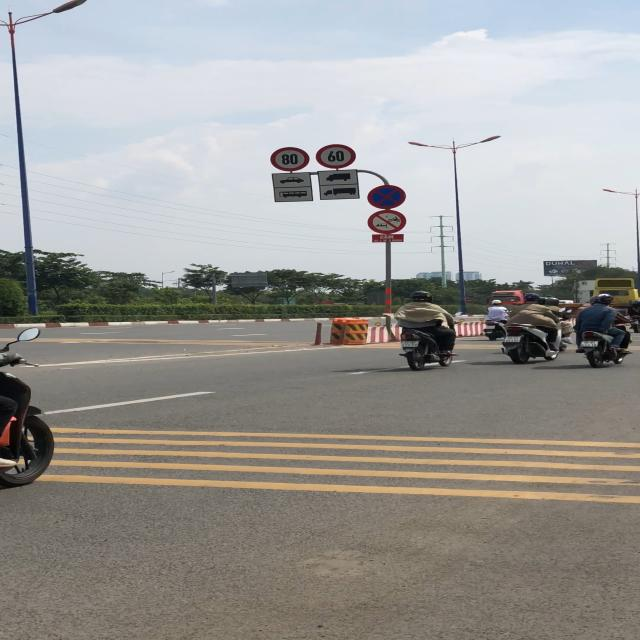Bien bao cam dung xe va do xe: (366, 184, 408, 209)
Bien bao toc do toi da cho phep: (270, 145, 314, 173), (315, 144, 360, 169)
